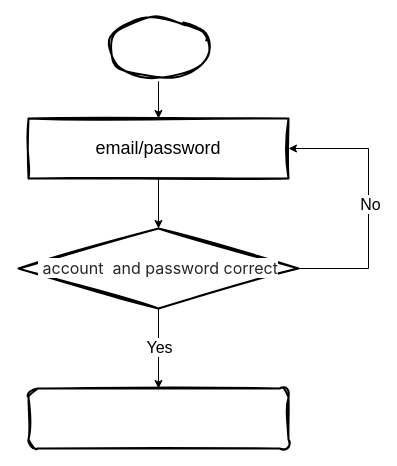
Image size: 397x466. Some labels were removed from this diagram. The box of each missing label's shape, as (x1, y1, x2, y2) in pixels:
go to project dashboard: (27, 387, 289, 449)
Sign In: (107, 17, 209, 79)
